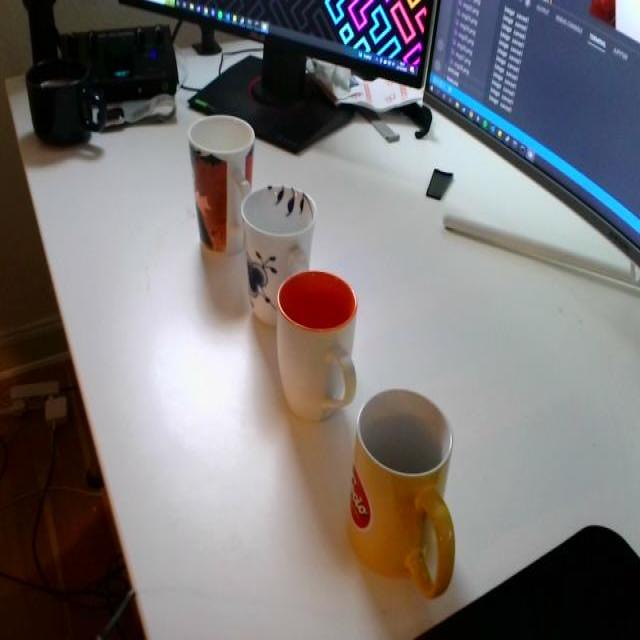cup: (346, 378, 465, 604), (268, 260, 358, 425), (235, 172, 319, 336), (180, 102, 268, 255)
